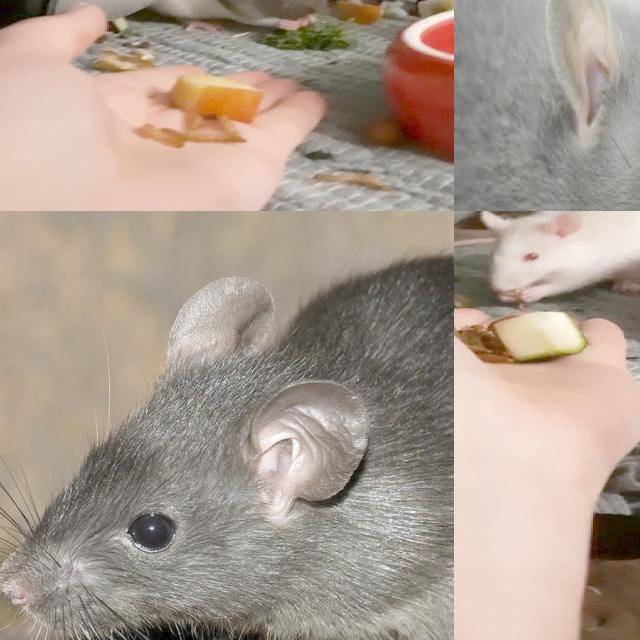rat: (0, 238, 454, 640), (454, 0, 640, 211), (480, 211, 640, 304), (156, 0, 334, 26)
